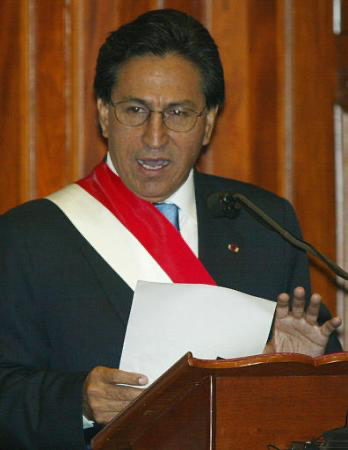Face: (107, 63, 211, 204)
